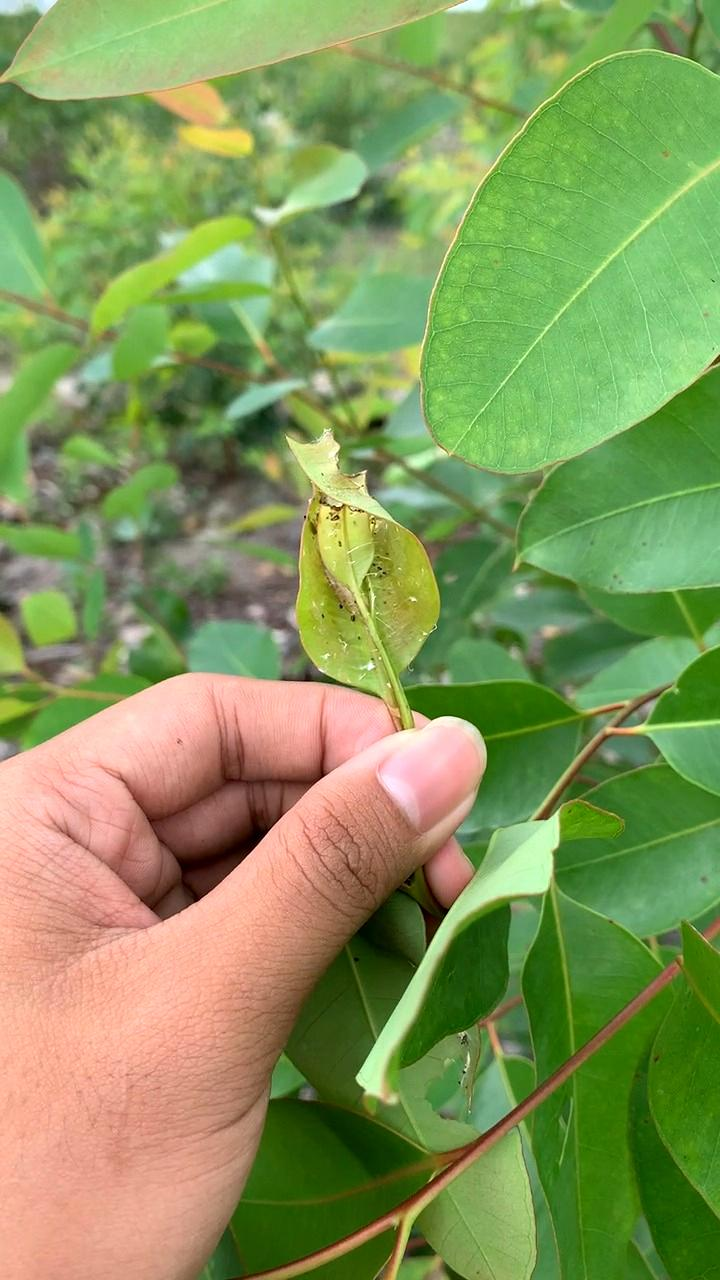Leaf Roller - Leaf: (286, 433, 449, 701)
